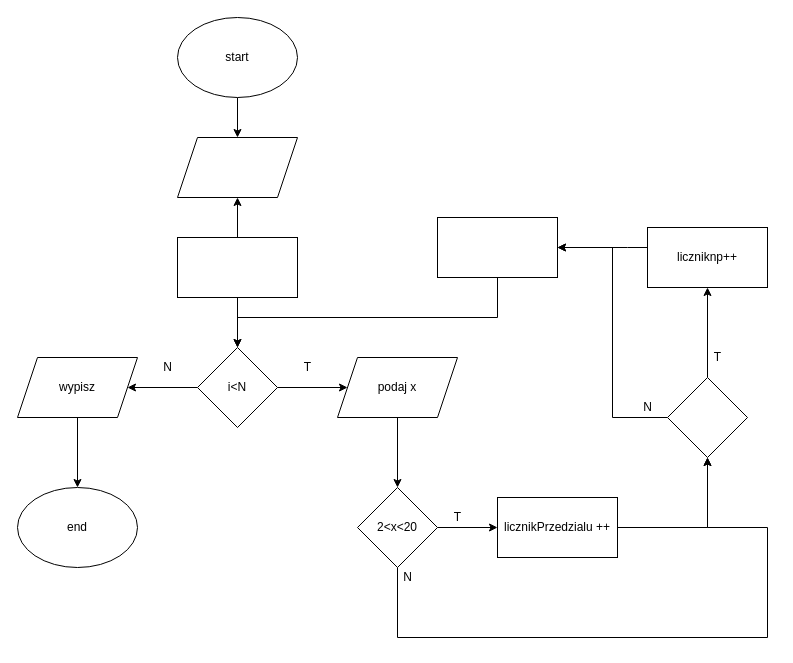
The diagram is 793 pixels wide and 663 high, and some of its shapes have lost their labels. Each missing label, with the centre of its shape:
i++: the point at 497,247
licznikPrzedzialu = 0 i = 0 licznik np = 0: the point at 237,267
podaj N: the point at 237,167
x%2!=0: the point at 707,417
